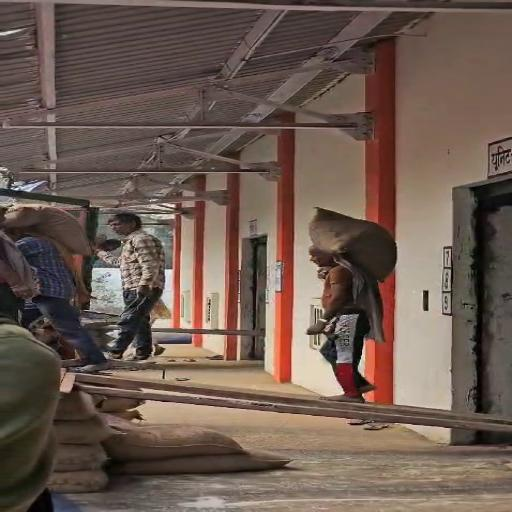bag: (305, 203, 404, 283)
